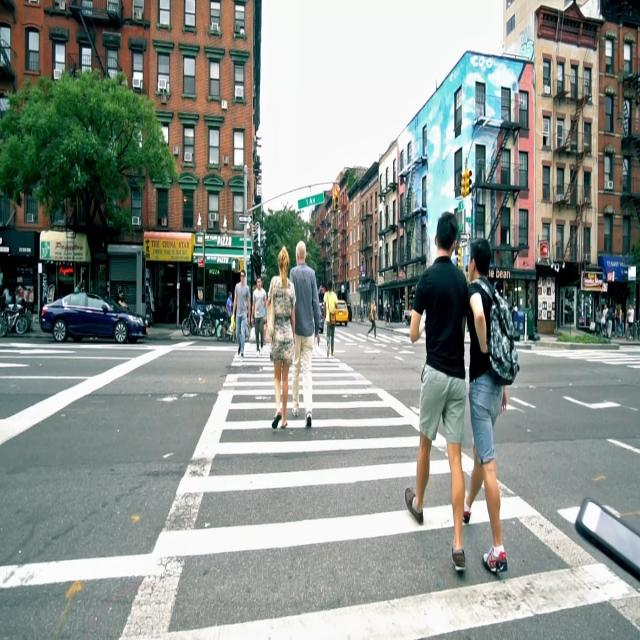Persona: (402, 209, 467, 586), (465, 234, 521, 582), (290, 240, 321, 435), (267, 244, 293, 435), (231, 267, 251, 359), (251, 275, 268, 356)
